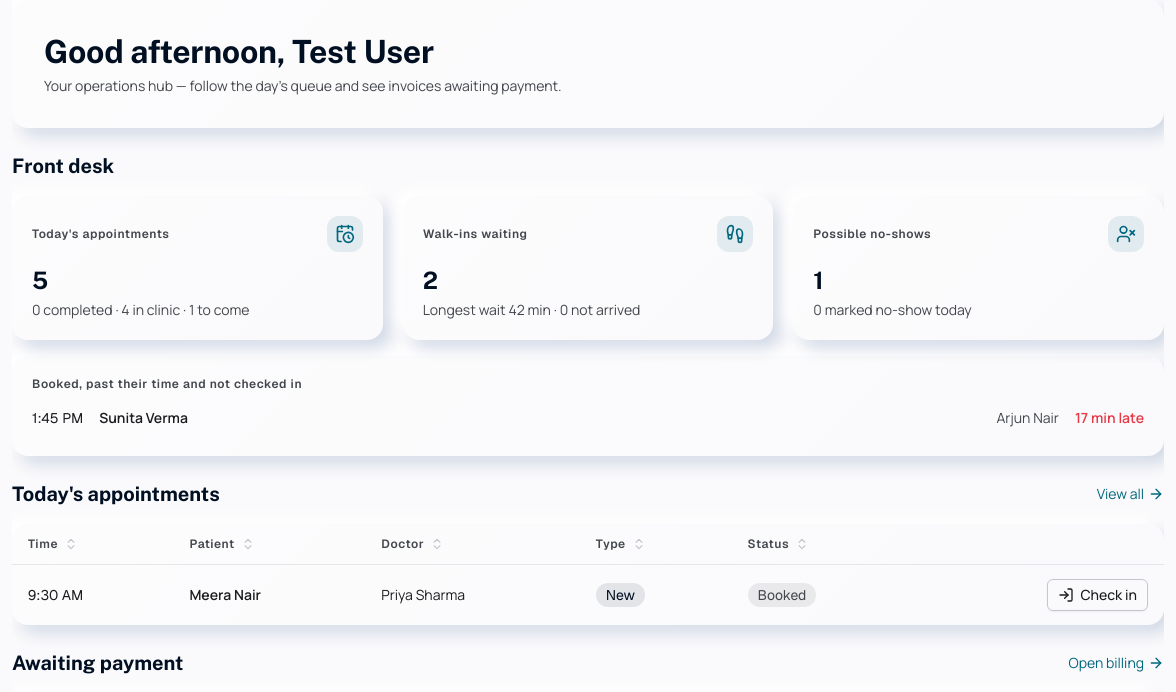
Test case: dashboard: figures after a write › keeps the figures and says they could not be refreshed when the read after a write fails
Expected: the text "Longest wait 42 min · 0 not arrived" is shown, [423,300,640,319]
Expected: the text "Couldn't refresh" is not shown
Click the button with aria-label "Check in Meera Nair": (1098, 595) [1047,579,1148,611]
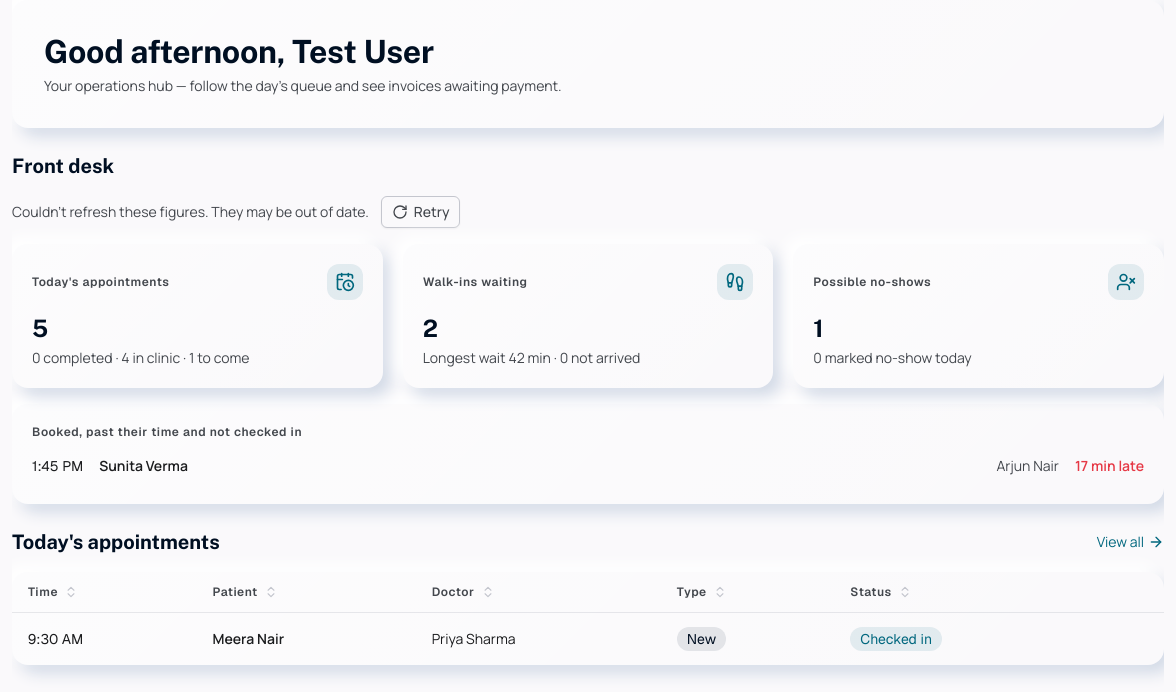
Expected: the text "Longest wait 42 min · 0 not arrived" is shown, [423,348,640,367]
Result: the text "Couldn't refresh these figures. They may be out of date." is shown at [12,202,369,222]
Click the button "Retry": (421, 212) [381,196,460,228]
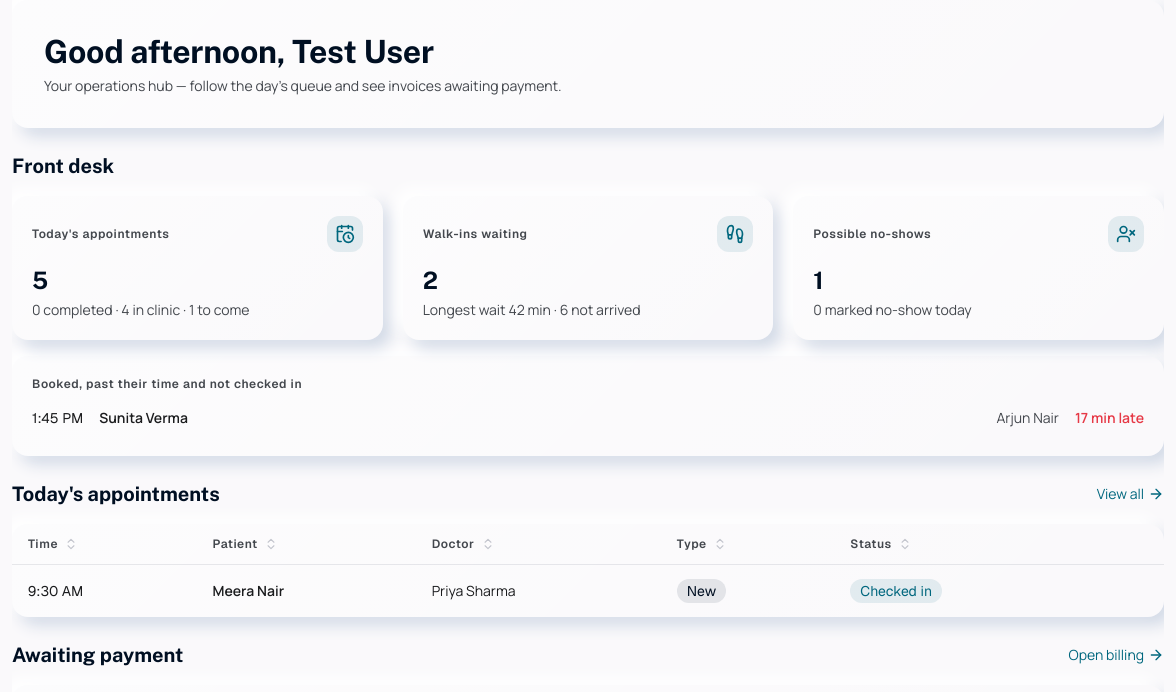
Result: the text "Longest wait 42 min · 6 not arrived" is shown at [423,300,641,319]
Result: the text "Couldn't refresh" is gone
